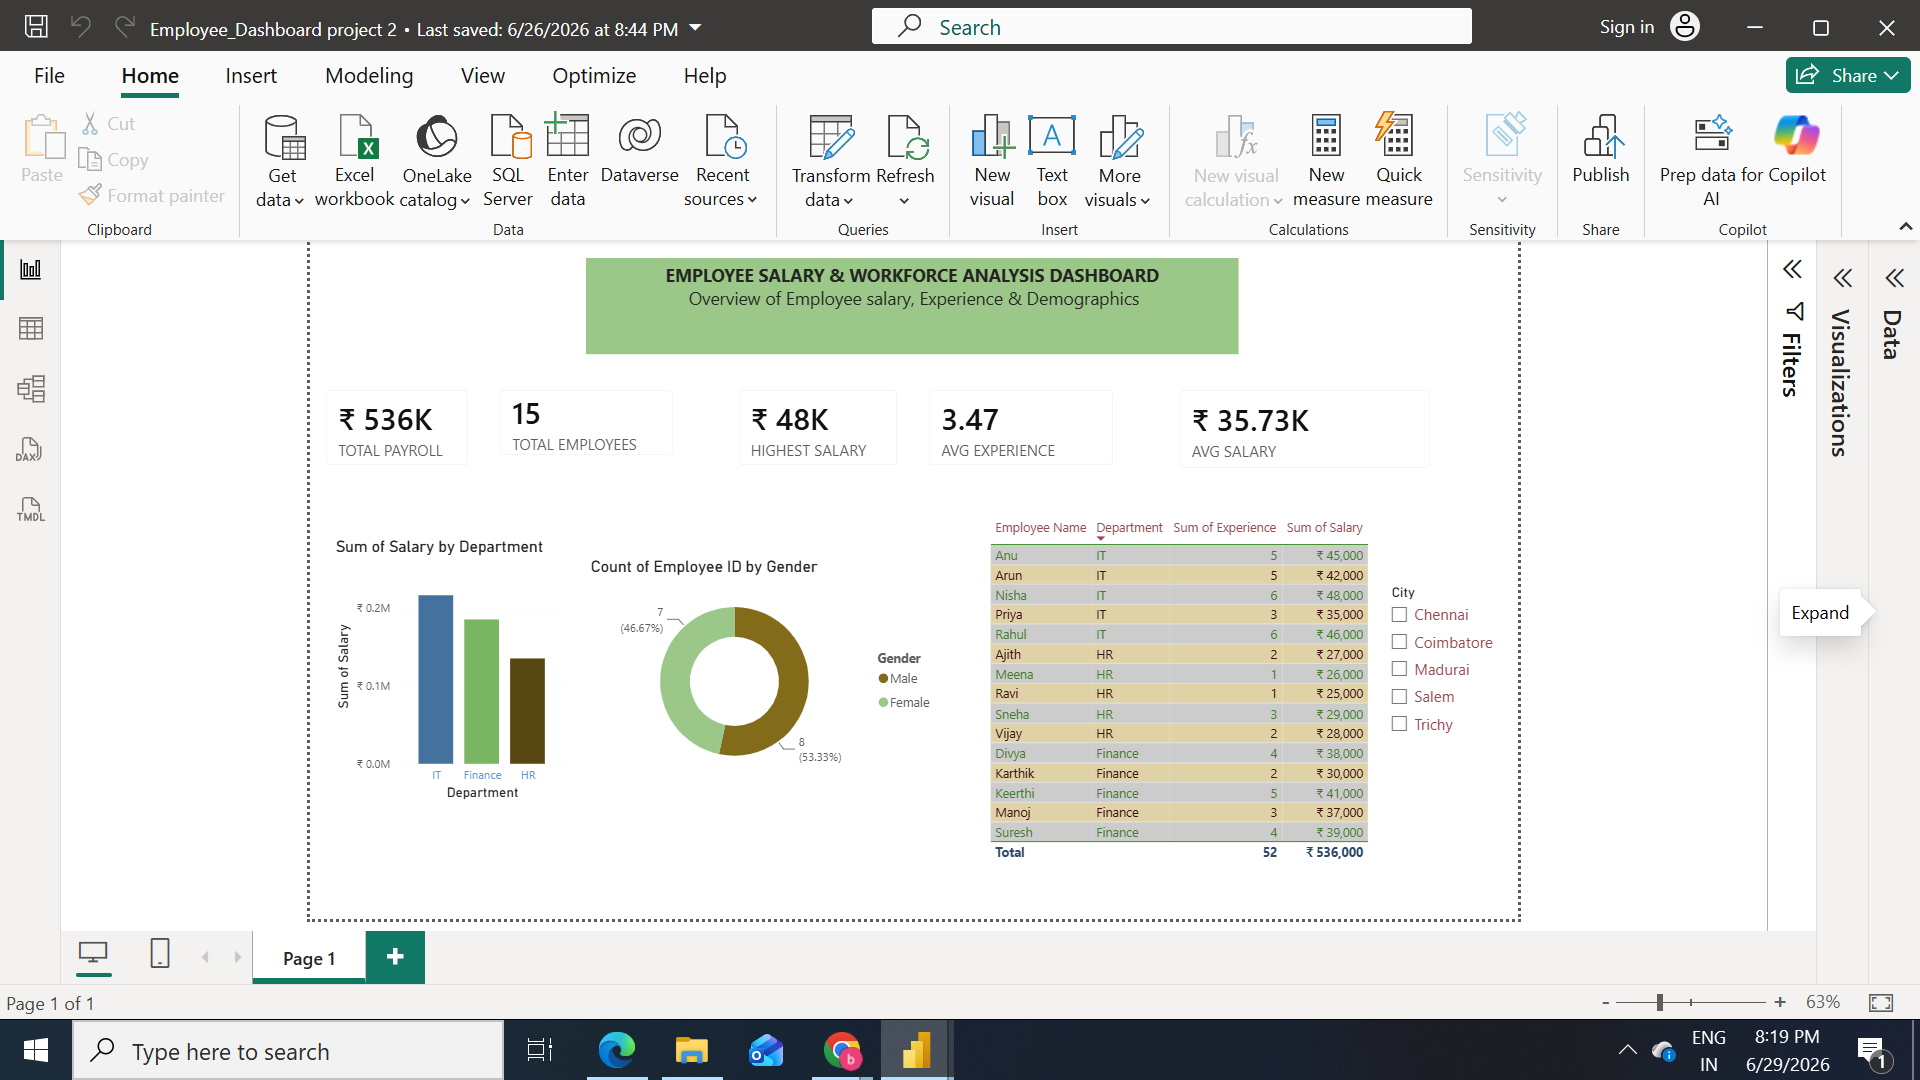

The dashboard page shown, as its layout file describes it:
{"tool":"powerbi","page":{"name":"Page 1","canvas":[1280,720],"ordinal":0},"visuals":[{"type":"cardVisual","fields":{"Data":["CountNonNull(Sheet1.Employee ID)"]},"box":[184.5,141.6,217.9,103.4],"z":0},{"type":"cardVisual","fields":{"Data":["Sum(Sheet1.Salary)"]},"box":[0,141.6,184.5,114.5],"z":1000},{"type":"clusteredColumnChart","fields":{"Category":["Sheet1.Department"],"Y":["Sum(Sheet1.Salary)"]},"box":[22.3,314.9,252.9,283.1],"z":2000},{"type":"donutChart","fields":{"Category":["Sheet1.Gender"],"Y":["CountNonNull(Sheet1.Employee ID)"]},"box":[292.7,335.6,380.2,245],"z":3000},{"type":"slicer","fields":{"Values":["Sheet1.City"]},"box":[1134.1,359.5,140,187.7],"z":4000},{"type":"tableEx","fields":{"Values":["Sheet1.Employee Name","Sheet1.Department","Sum(Sheet1.Experience)","Sum(Sheet1.Salary)"]},"box":[715.8,289.5,418.3,392.9],"z":5000},{"type":"textbox","box":[292.7,19.1,691.9,101.8],"z":6000},{"type":"cardVisual","fields":{"Data":["Avg(Sheet1.Salary)"]},"box":[905.1,141.6,299,117.7],"z":7000},{"type":"cardVisual","fields":{"Data":["Max(Sheet1.Salary)"]},"box":[437.4,141.6,202,114.5],"z":8000},{"type":"cardVisual","fields":{"Data":["Avg(Sheet1.Experience)"]},"box":[639.4,141.6,229,114.5],"z":9000}]}

Visuals, with their boxes on the page's 1280x720 design canvas (x1, y1, x2, y2). These are canvas units, not pixel positions in the 1920x1080 screenshot, which may show the page scaled, cropped or inside an application window:
cardVisual - CountNonNull(Sheet1.Employee ID): detection(184, 142, 402, 245)
cardVisual - Sum(Sheet1.Salary): detection(0, 142, 184, 256)
clusteredColumnChart - Sheet1.Department x Sum(Sheet1.Salary): detection(22, 315, 275, 598)
donutChart - Sheet1.Gender x CountNonNull(Sheet1.Employee ID): detection(293, 336, 673, 581)
slicer - Sheet1.City: detection(1134, 360, 1274, 547)
tableEx - Sheet1.Employee Name x Sheet1.Department: detection(716, 290, 1134, 682)
textbox: detection(293, 19, 985, 121)
cardVisual - Avg(Sheet1.Salary): detection(905, 142, 1204, 259)
cardVisual - Max(Sheet1.Salary): detection(437, 142, 639, 256)
cardVisual - Avg(Sheet1.Experience): detection(639, 142, 868, 256)
